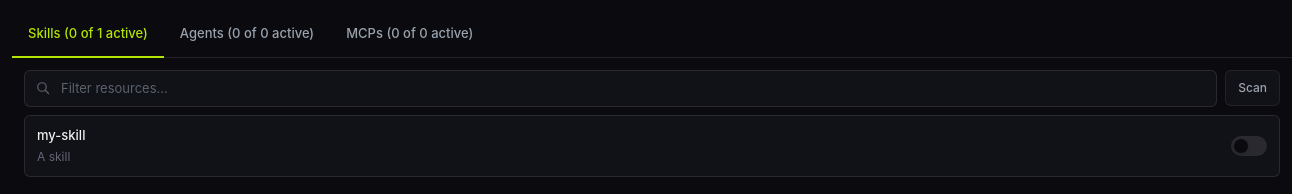
ResourceConfig › empty state › shows empty message for a tab with no resources
Click the tab with test id "resource-tab-agent": (247,35) [164, 12, 330, 58]
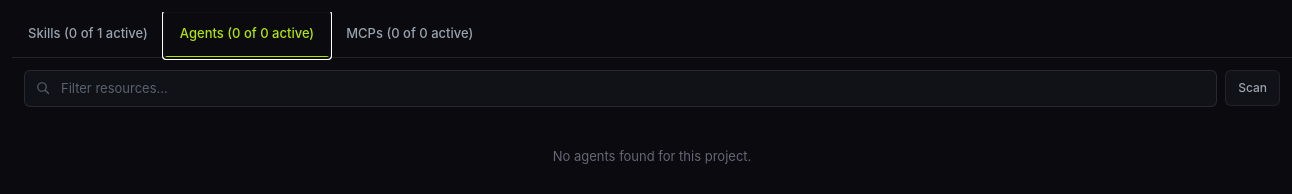
Result: the text with test id "resource-empty" shows "No agents found" at [553, 148, 751, 164]
